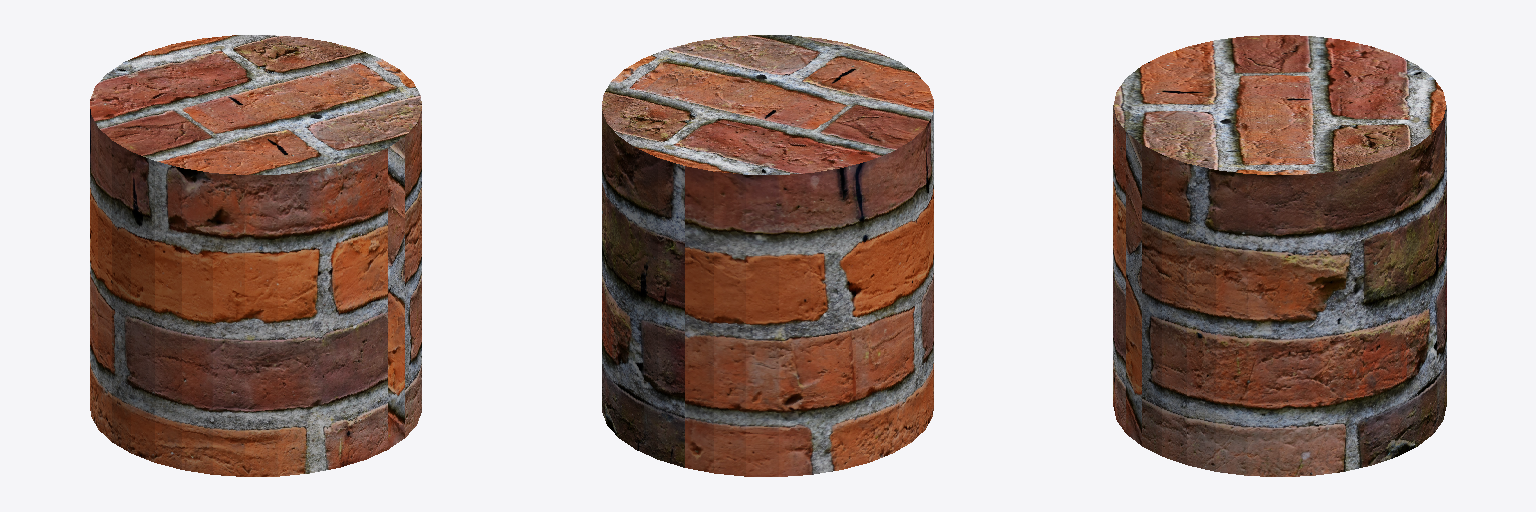
The picture shows the model from 3 angles: view 1: azimuth 30°, elevation 25°; view 2: azimuth 150°, elevation 25°; view 3: azimuth 270°, elevation 25°; orthographic projection.
Visible parts, largest first — view 1: Cylinder; view 2: Cylinder; view 3: Cylinder.
Boxes of the visible parts, <box> form: Cylinder: <box>90,35,421,476</box>; Cylinder: <box>602,35,933,476</box>; Cylinder: <box>1113,35,1446,476</box>.
Size of the model in its own units: 2 by 2 by 2.
Materials: 1 (1 with a texture image).